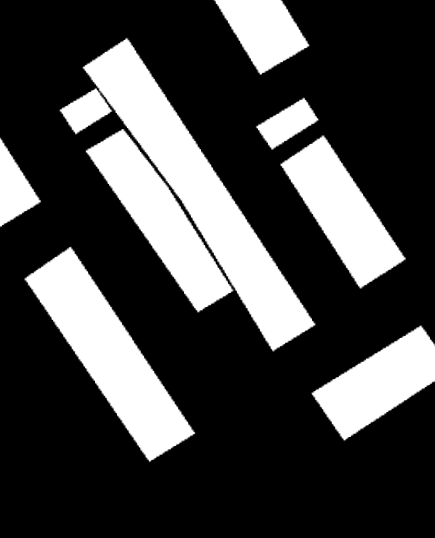parkingspot: (60, 38, 315, 351), (25, 247, 195, 462), (86, 129, 233, 312), (280, 136, 406, 289), (312, 326, 435, 440), (214, 0, 309, 75), (0, 138, 41, 227), (256, 98, 318, 150)
